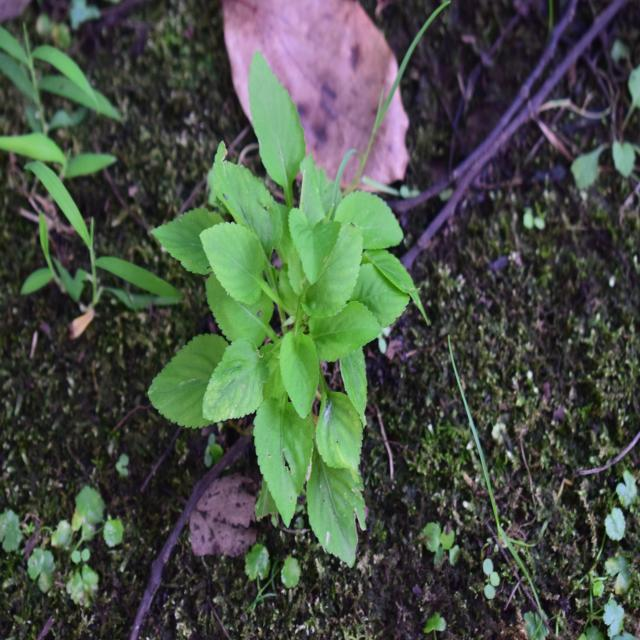Viola: (178, 98, 399, 527)
